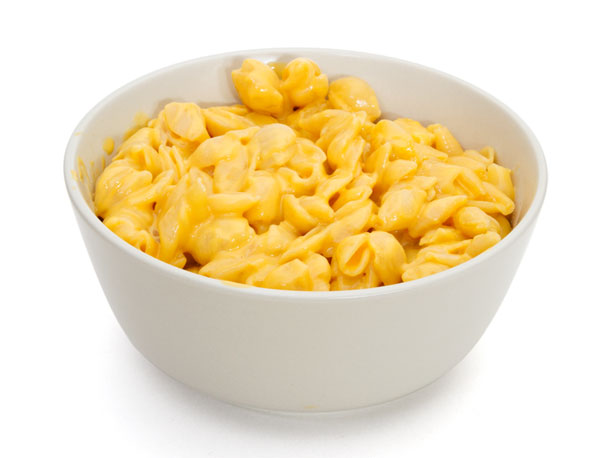macncheese: (86, 50, 518, 294)
